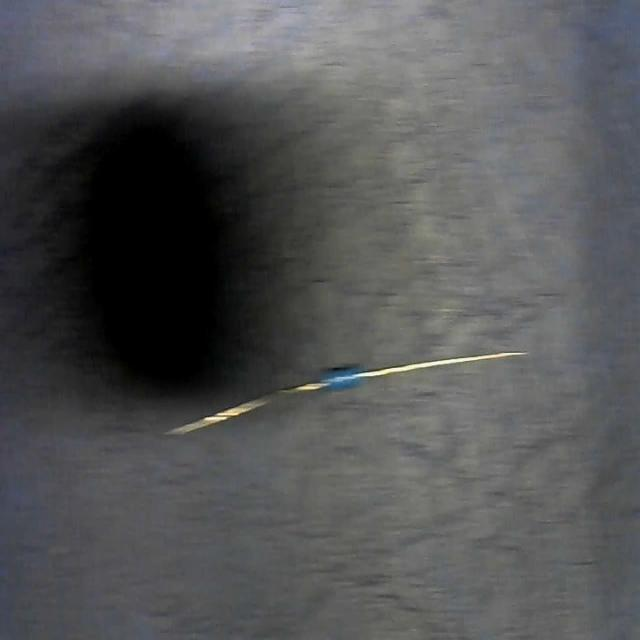resistor: (172, 356, 538, 424)
